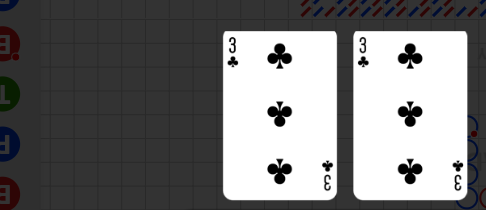3C: (356, 35, 371, 70), (226, 35, 240, 70)
